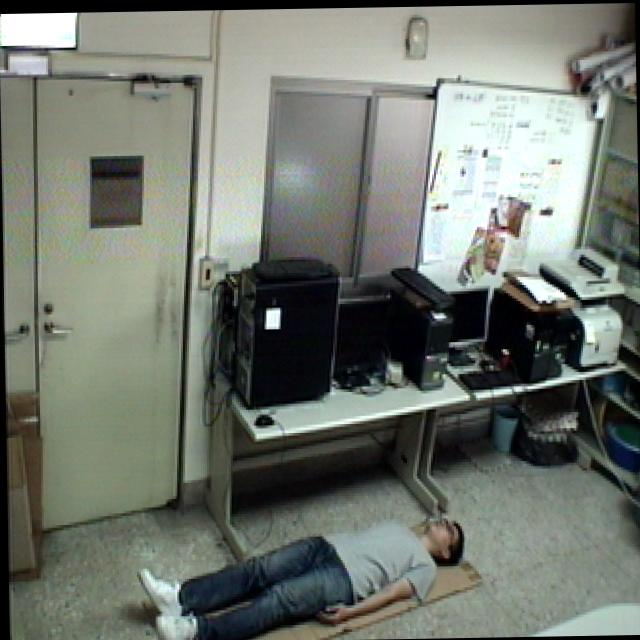lie: (135, 503, 469, 640)
